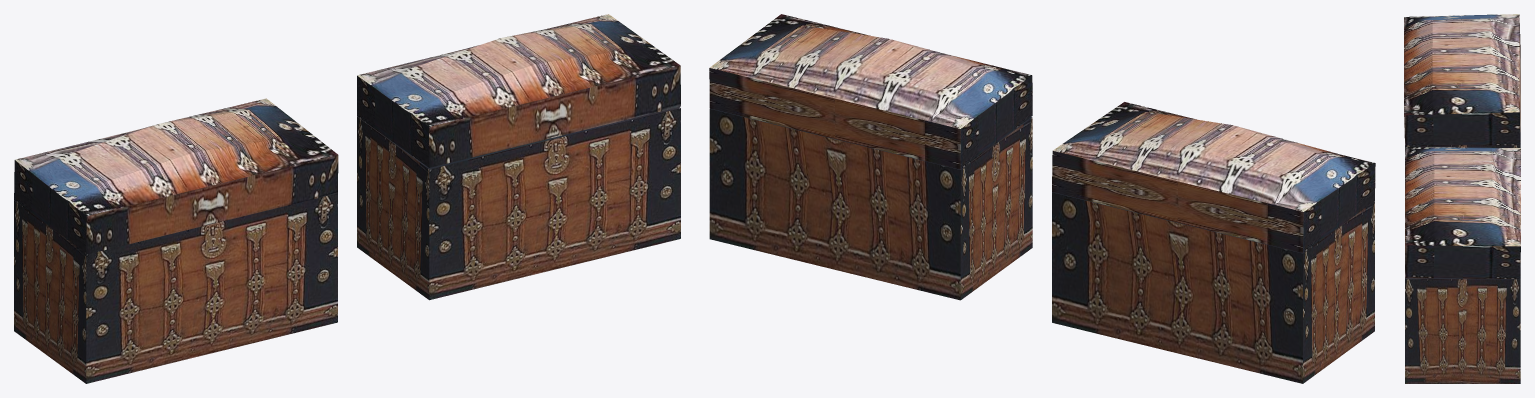
Rendered from chest.fbx.
3 views of the same model, side by side, from view 1: azimuth 30°, elevation 25°; view 2: azimuth 150°, elevation 25°; view 3: azimuth 270°, elevation 25° (orthographic). The views are drawn at different scales.
Parts seen in each view (by area): view 1: ChestHollowMain, ChestBlockMain, ChestBlockLid, ChestHollowLid; view 2: ChestHollowMain, ChestBlockMain, ChestHollowLid, ChestBlockLid; view 3: ChestBlockLid, ChestHollowLid, ChestHollowMain, ChestBlockMain.
Part boxes in pixels (x1,y1,x2,y2): ChestHollowMain: (357, 107, 680, 300); ChestBlockMain: (14, 193, 337, 383); ChestBlockLid: (14, 98, 338, 255); ChestHollowLid: (357, 14, 680, 167); ChestHollowMain: (709, 108, 1032, 300); ChestBlockMain: (1052, 192, 1374, 383); ChestHollowLid: (709, 14, 1032, 169); ChestBlockLid: (1052, 102, 1375, 252); ChestBlockLid: (1404, 14, 1520, 146); ChestHollowLid: (1405, 147, 1520, 278); ChestHollowMain: (1405, 278, 1520, 383); ChestBlockMain: (1405, 145, 1520, 171).
Bounding box in the file's own units: 952 × 294 × 202.
Materials: 2 (2 with a texture image).
